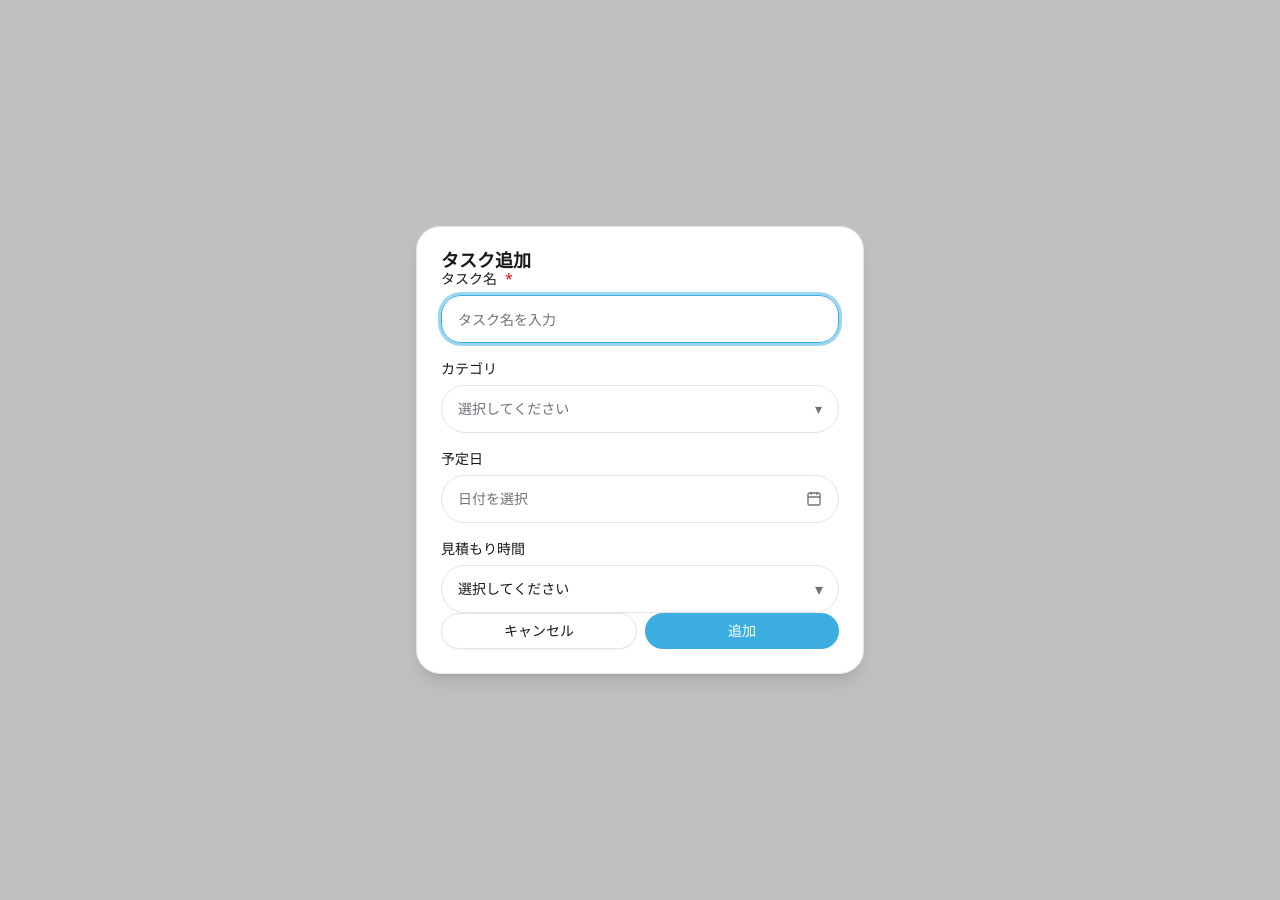
Scenario: AddTaskForm › 空のタスク名では送信せずエラーを表示する
Click the button "追加" at (742, 631), box [645,613,839,649]
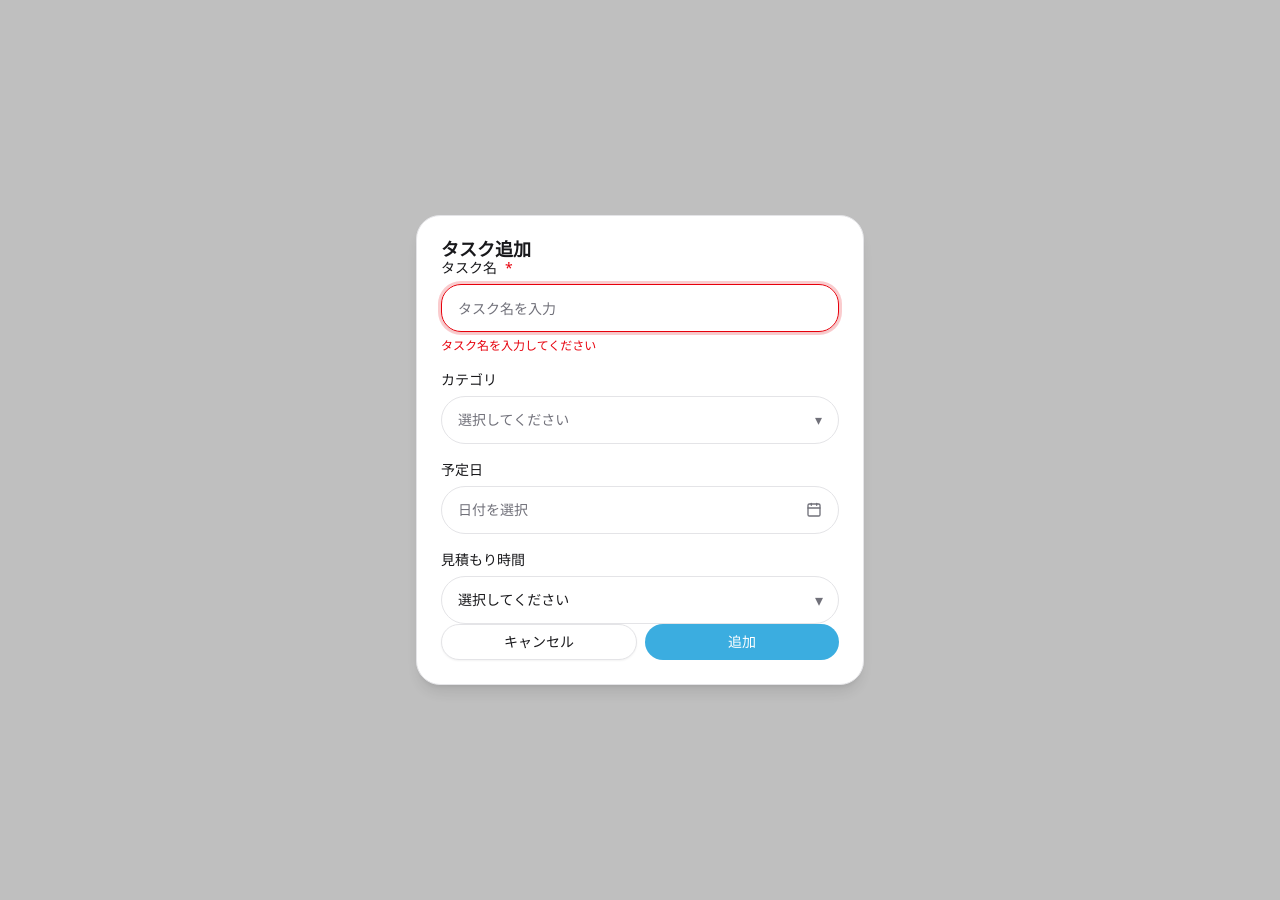
Now the text "タスク名を入力してください" is shown, box [441,337,596,354]
